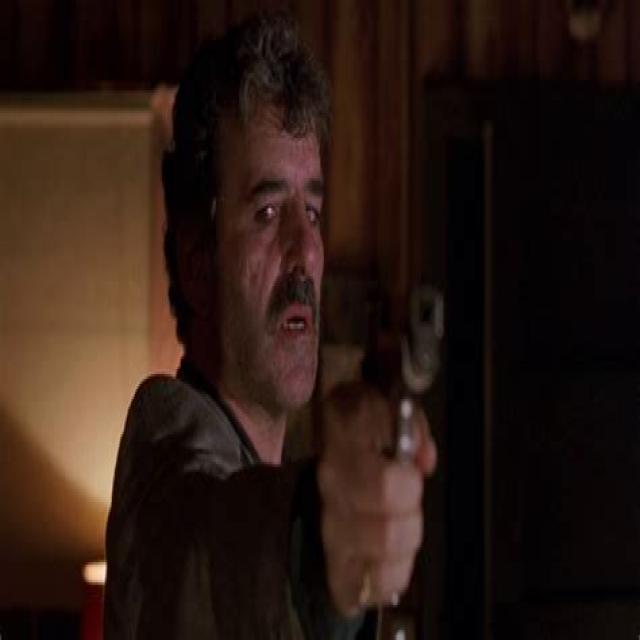weapons: (331, 262, 467, 556)
